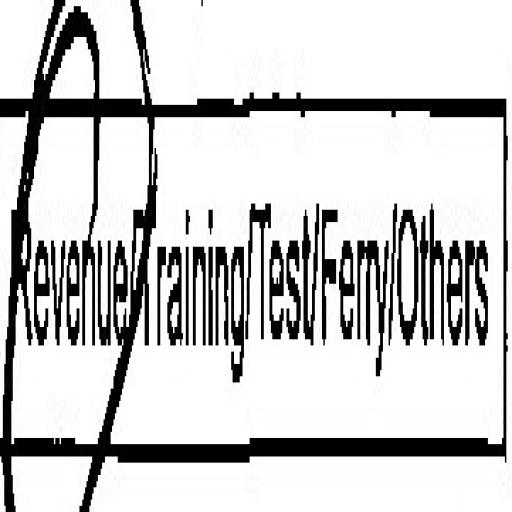check: (2, 0, 133, 512)
